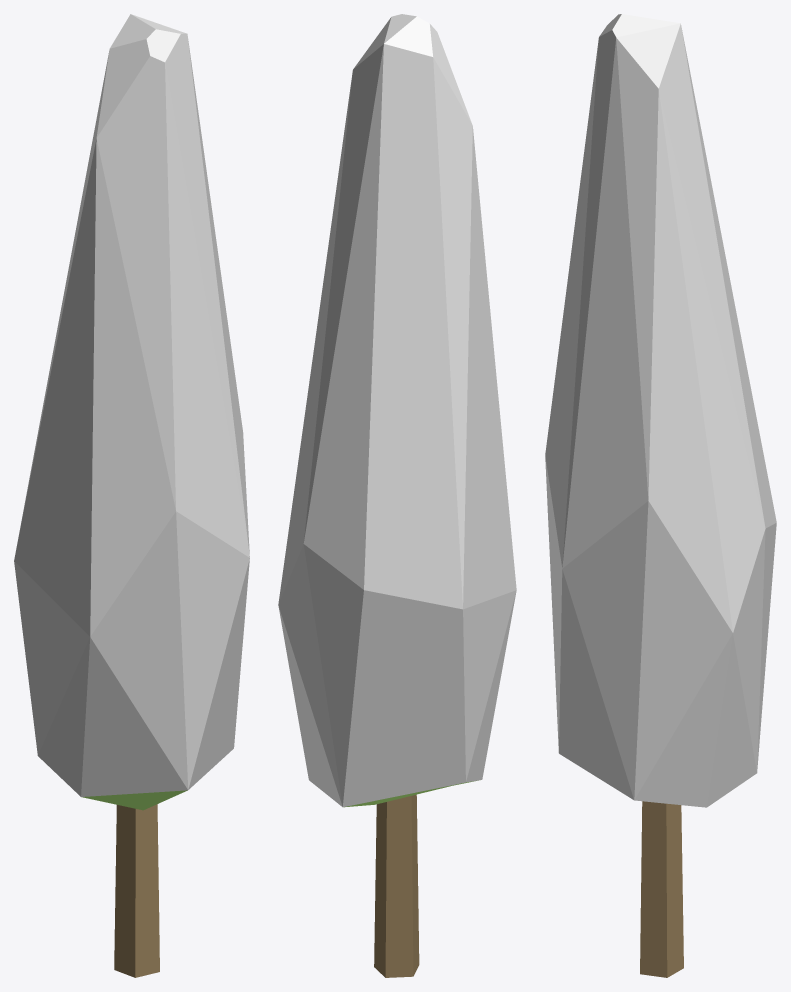
File: Thuja_Tree_m_Snow_03.fbx
3 renders of one model, left to right at view 1: azimuth 30°, elevation 25°; view 2: azimuth 150°, elevation 25°; view 3: azimuth 270°, elevation 25°, orthographic.
Visible parts, largest first — view 1: Thuja_Tree_m_Snow_03; view 2: Thuja_Tree_m_Snow_03; view 3: Thuja_Tree_m_Snow_03.
Boxes of the visible parts, left/top/right/bottom form: Thuja_Tree_m_Snow_03: left=14, top=14, right=249, bottom=977; Thuja_Tree_m_Snow_03: left=278, top=14, right=516, bottom=977; Thuja_Tree_m_Snow_03: left=545, top=14, right=776, bottom=977.
Bounding box in the file's own units: 103 × 483 × 106.
